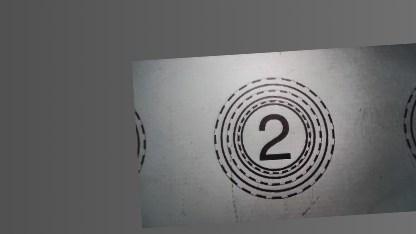2r: (210, 74, 338, 203)
